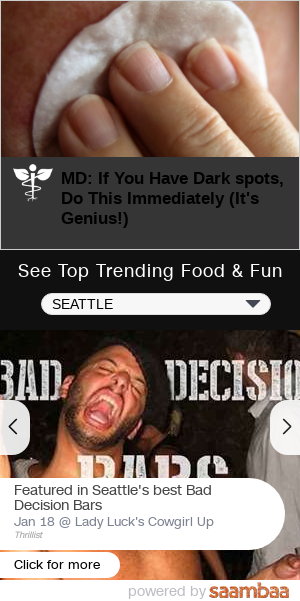fake_button: (0, 550, 122, 584)
